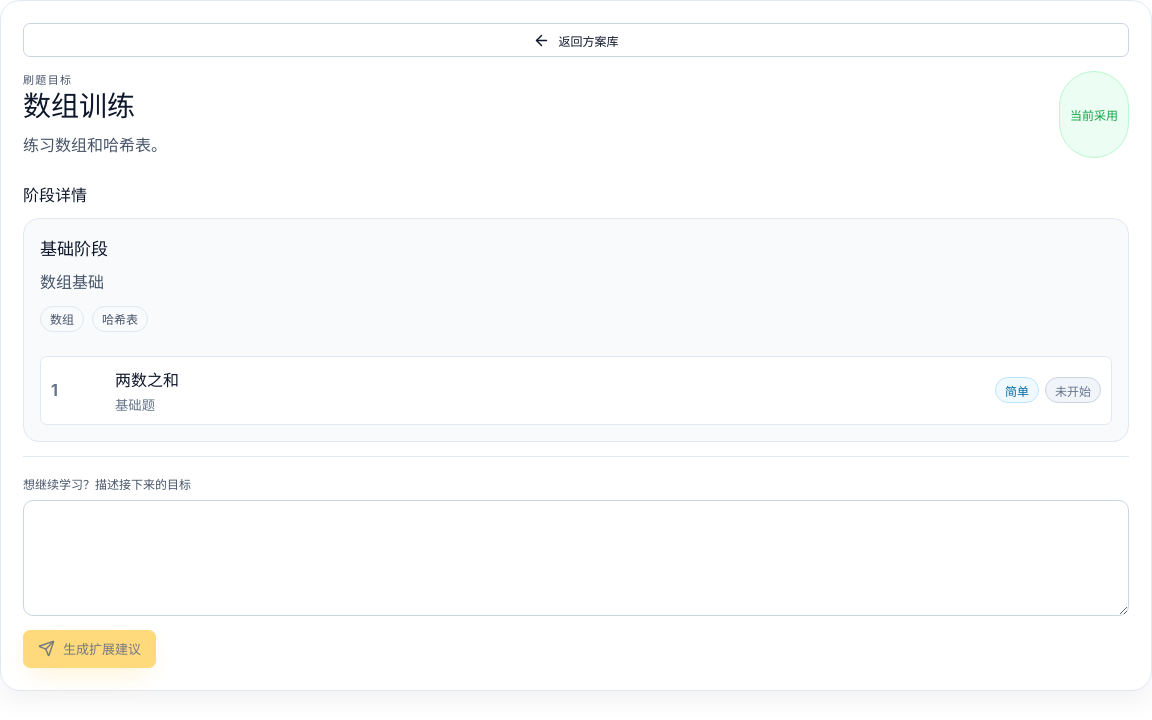
Test: LearningPlanDetail extension orchestration › shows a work_error message in a dialog when the stream closes without a terminal event
Type "继续练图论" into the text box labelled "想继续学习？描述接下来的目标".
click(576, 558); type("继续练图论")  # box x1=23 y1=500 x2=1129 y2=616
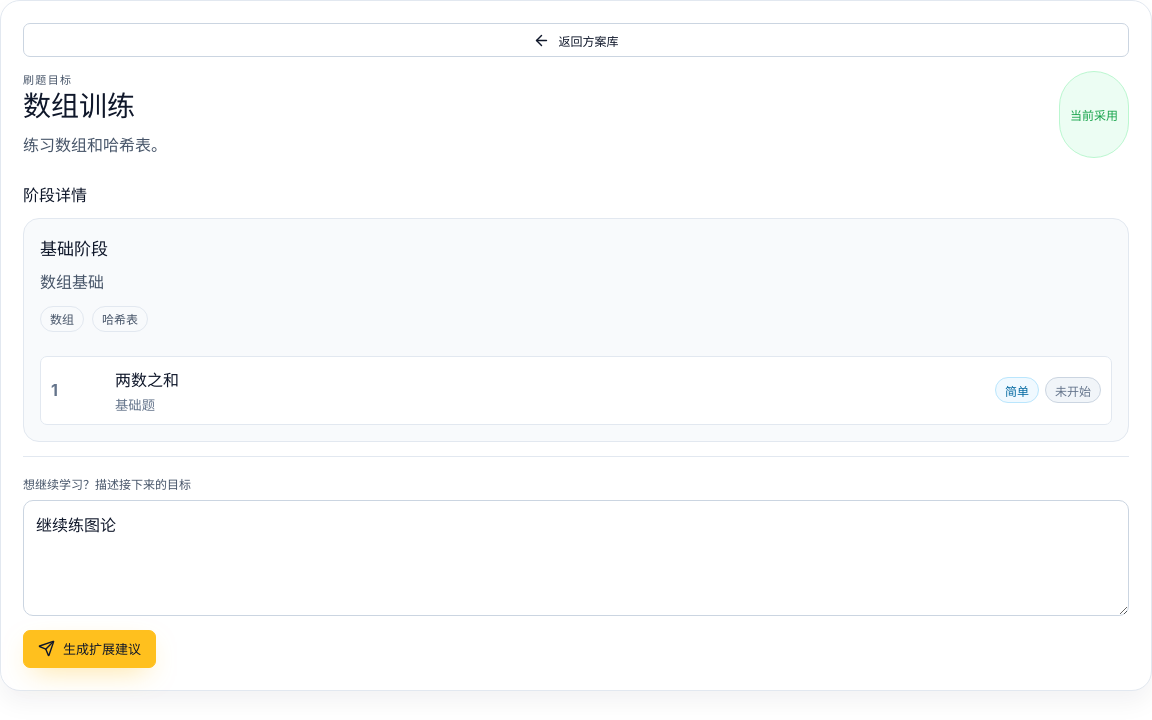
Click the button "生成扩展建议".
click(90, 649)  # box x1=23 y1=630 x2=156 y2=668
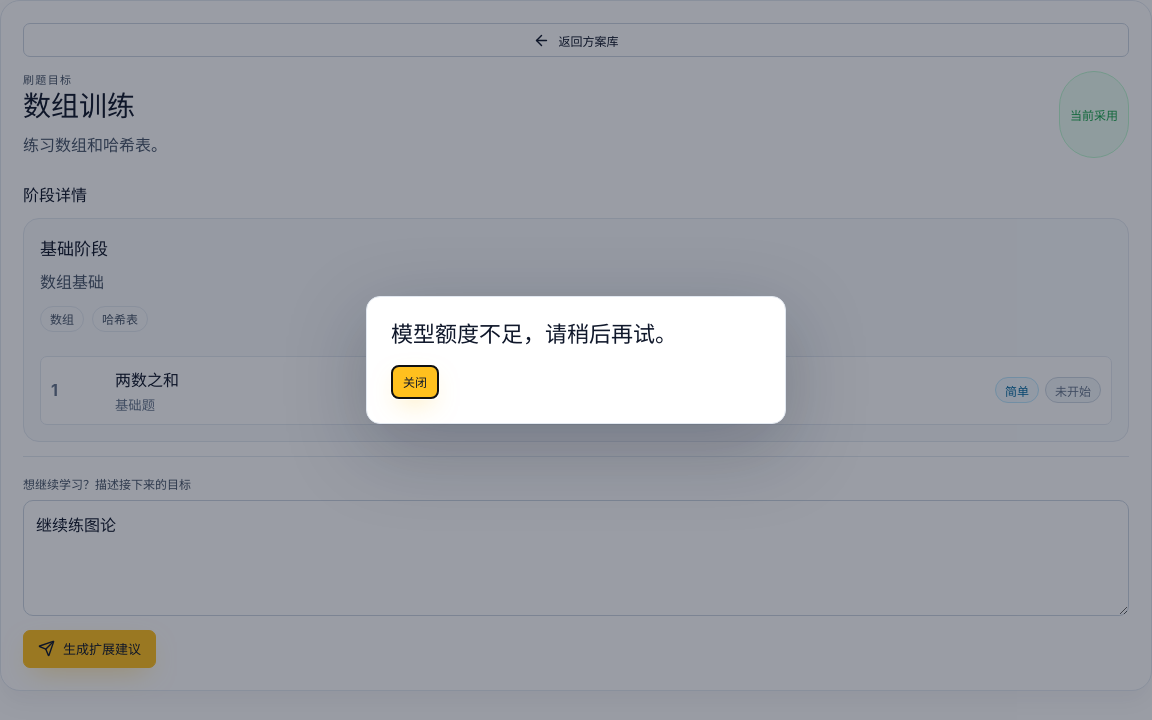
Check: the dialog "模型额度不足，请稍后再试。" is shown, box x1=366 y1=296 x2=786 y2=424
